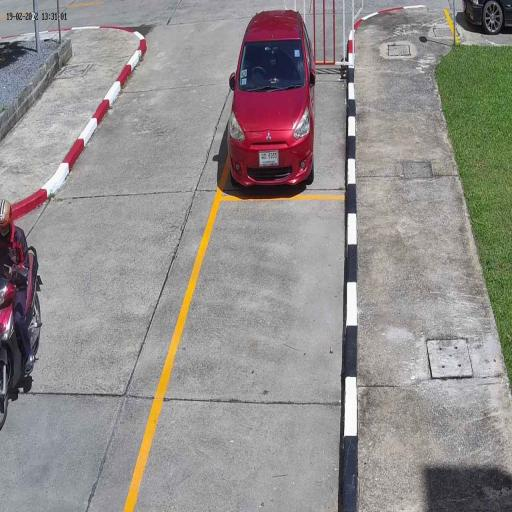car: (226, 10, 318, 192)
motorcycle: (0, 284, 42, 434)
